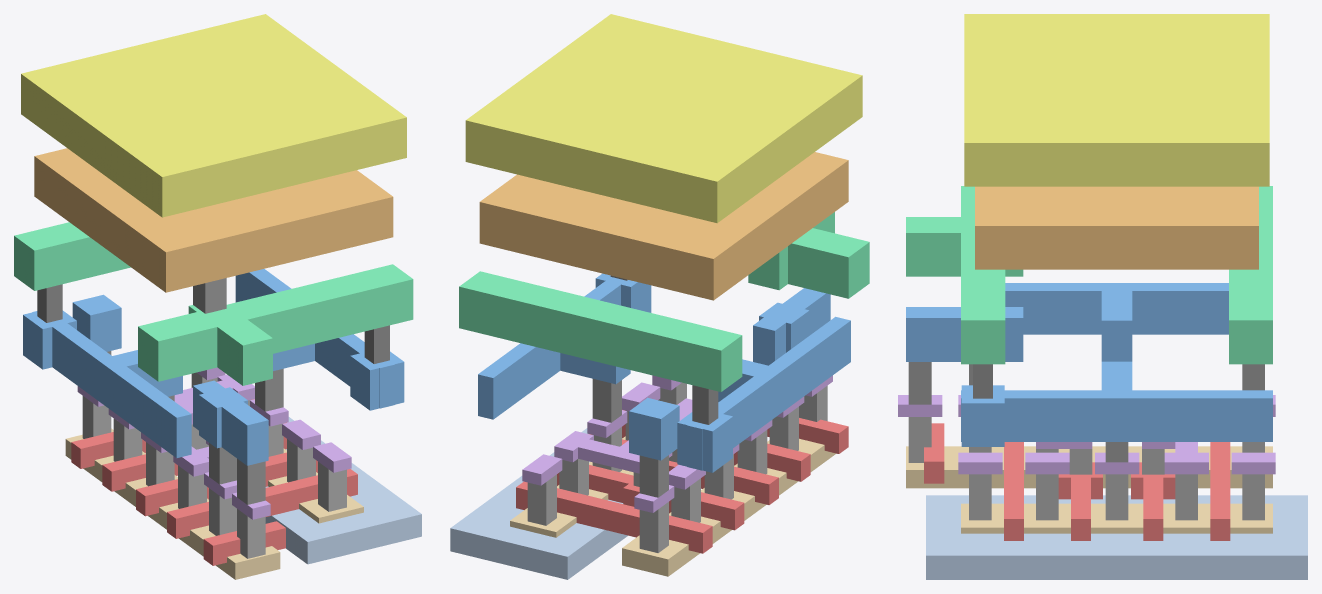
The model's file is bitcell_3d.glb.
The picture shows the model from 3 angles, left to right: view 1: azimuth 30°, elevation 25°; view 2: azimuth 150°, elevation 25°; view 3: azimuth 270°, elevation 25°; orthographic projection. The views are drawn at different scales.
Visible parts, largest first — view 1: met4, met3, met1, met2, licon, poly, nwell, li1, diff, mcon, via, via2; view 2: met4, met3, met2, met1, poly, licon, nwell, li1, diff, mcon, via; view 3: met4, met1, met3, nwell, met2, poly, diff, licon, li1, mcon, via.
Part boxes in pixels (x1,y1,x2,y2): met4: (21, 14, 406, 217); met3: (34, 148, 393, 292); met1: (23, 269, 404, 465); met2: (14, 222, 413, 385); licon: (82, 372, 346, 558); poly: (71, 399, 357, 565); nwell: (265, 417, 421, 564); li1: (77, 367, 351, 519); diff: (65, 428, 363, 579); mcon: (107, 351, 283, 504); via: (37, 284, 389, 363); via2: (193, 278, 226, 313); met4: (465, 14, 862, 223); met3: (479, 152, 848, 300); met2: (459, 212, 869, 391); met1: (478, 273, 850, 472); poly: (516, 410, 848, 553); licon: (527, 382, 827, 552); nwell: (450, 428, 627, 579); li1: (522, 375, 832, 512); diff: (510, 436, 835, 576); mcon: (592, 379, 668, 497); via: (610, 275, 718, 424); met4: (964, 14, 1269, 186); met1: (906, 283, 1272, 446); met3: (975, 186, 1258, 269); nwell: (926, 495, 1307, 579); met2: (906, 186, 1272, 364); poly: (924, 423, 1230, 540); diff: (906, 446, 1272, 533); licon: (908, 417, 1264, 520); li1: (898, 395, 1275, 474); mcon: (908, 362, 1264, 462); via: (973, 364, 992, 398).
Size of the model in its own units: 23.75 by 36.1 by 30.6.
